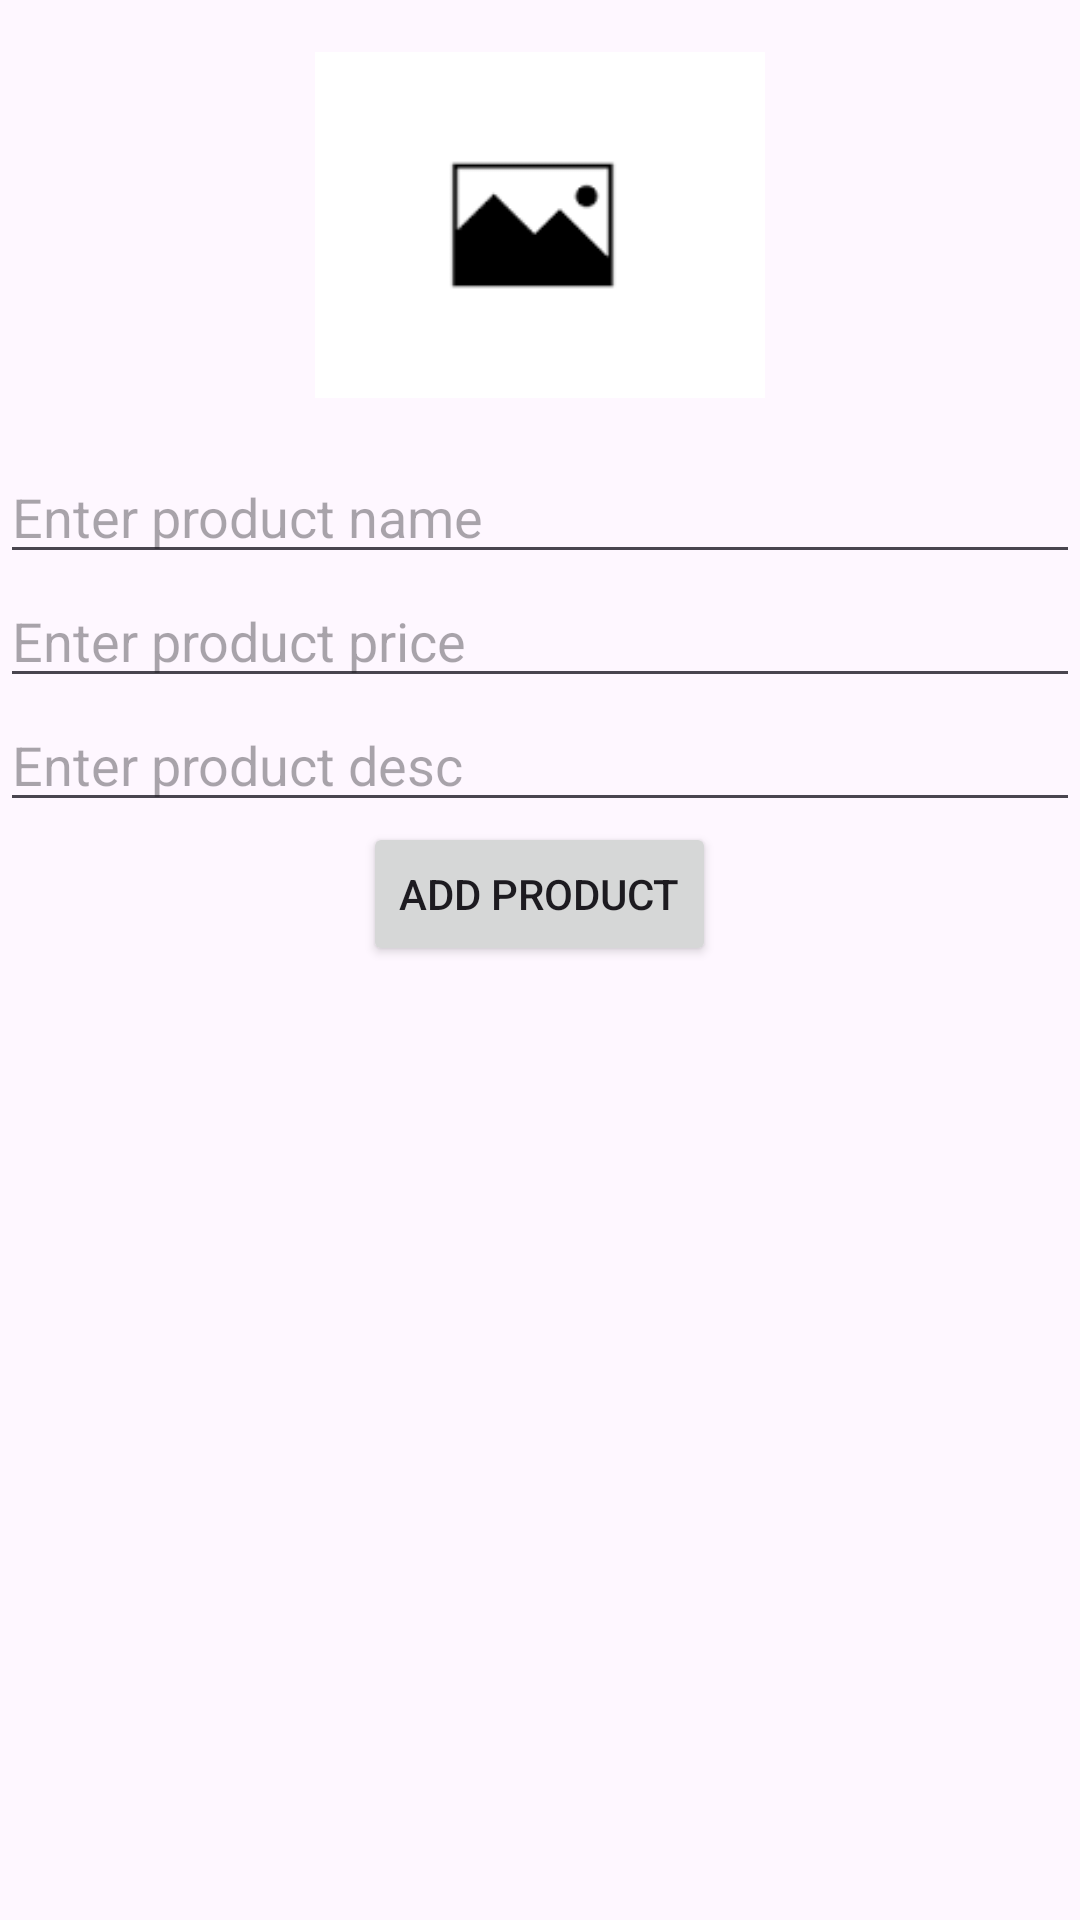

Named icons in this screenshot (1080px x 1920px) and their centers, [x,y]:
holder: [533,225]
